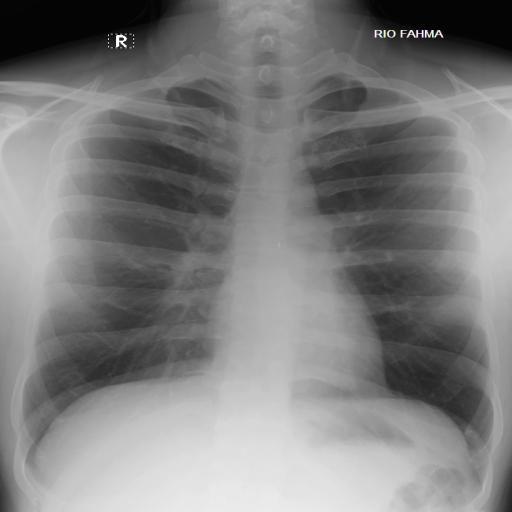normal: (16, 56, 502, 488)
